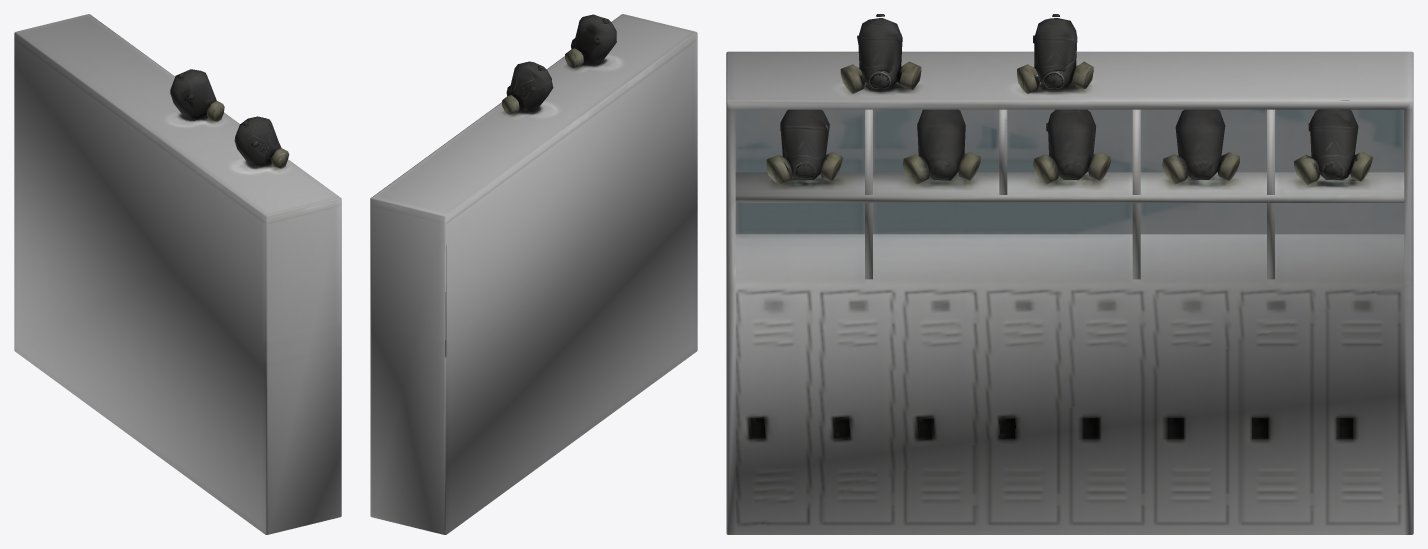
File: PPE_B_MaskLocker.fbx
3 renders of one model, left to right at view 1: azimuth 30°, elevation 25°; view 2: azimuth 150°, elevation 25°; view 3: azimuth 270°, elevation 25°, orthographic. The views are drawn at different scales.
Visible parts, largest first — view 1: meshes[0]; view 2: meshes[0]; view 3: meshes[0].
Part boxes in pixels (bbox=[...]): meshes[0]: bbox=[14, 14, 341, 534]; meshes[0]: bbox=[370, 14, 697, 534]; meshes[0]: bbox=[726, 14, 1413, 534].
Bounding box in the file's own units: 0.1738 × 0.7949 × 0.998.
